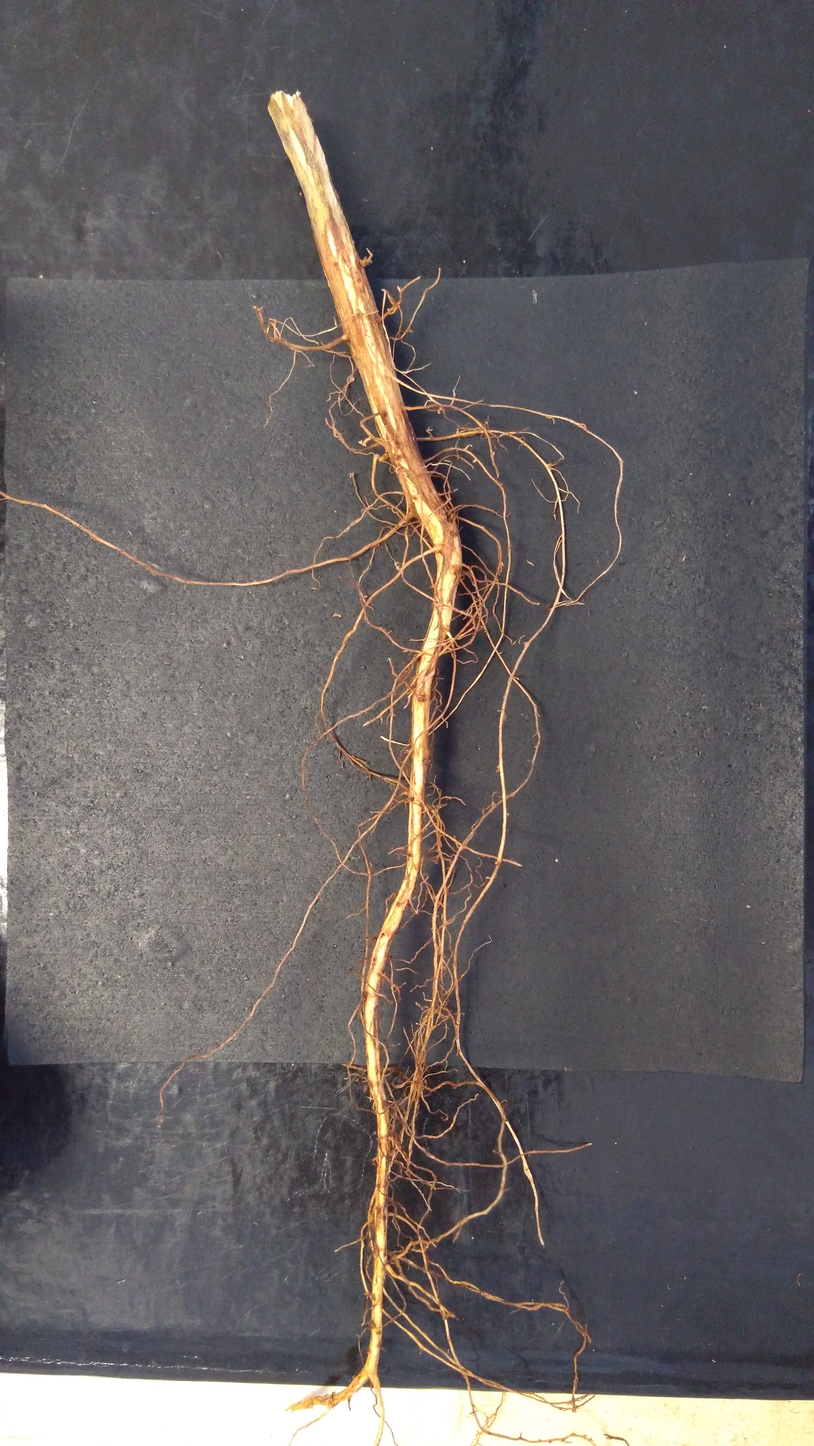nodule: (389, 1100, 400, 1115), (359, 258, 372, 267), (371, 1155, 377, 1167), (332, 612, 341, 619), (437, 407, 443, 415), (349, 376, 355, 383), (349, 472, 354, 478), (396, 565, 401, 570), (358, 440, 362, 445), (352, 1375, 357, 1379), (364, 595, 368, 598)
